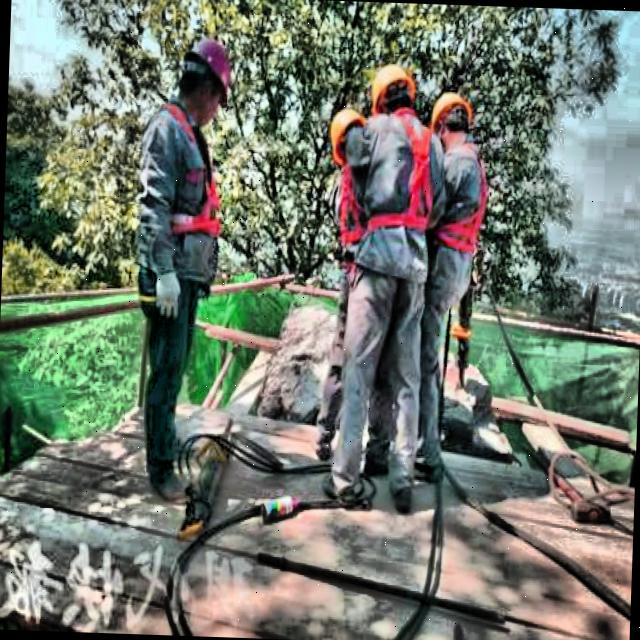helmet: (178, 28, 238, 126), (367, 60, 420, 133), (427, 86, 477, 152), (326, 104, 372, 169)
